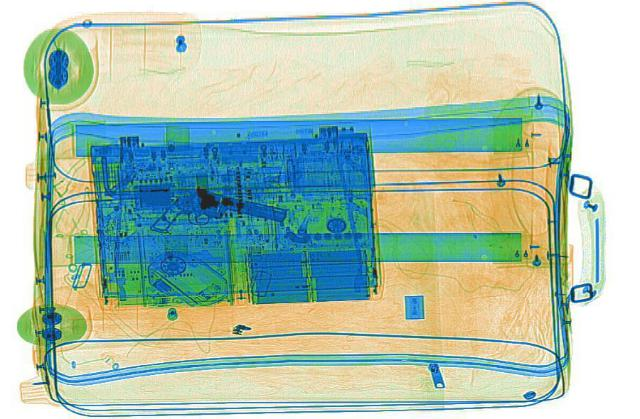Gun: (146, 181, 290, 258)
